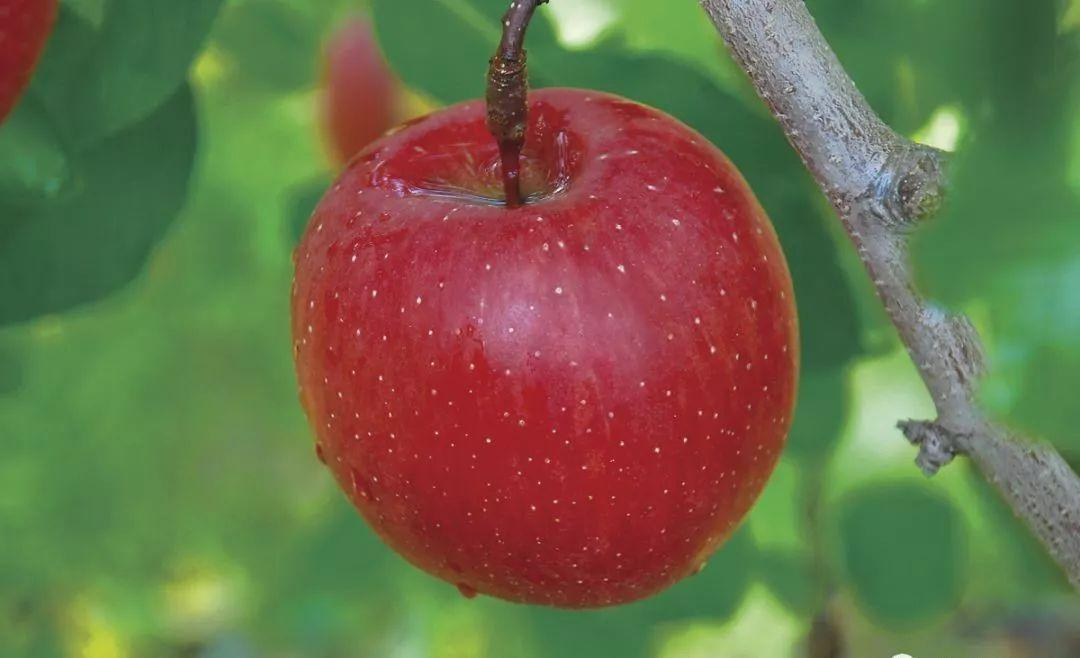apple: (293, 86, 798, 605)
